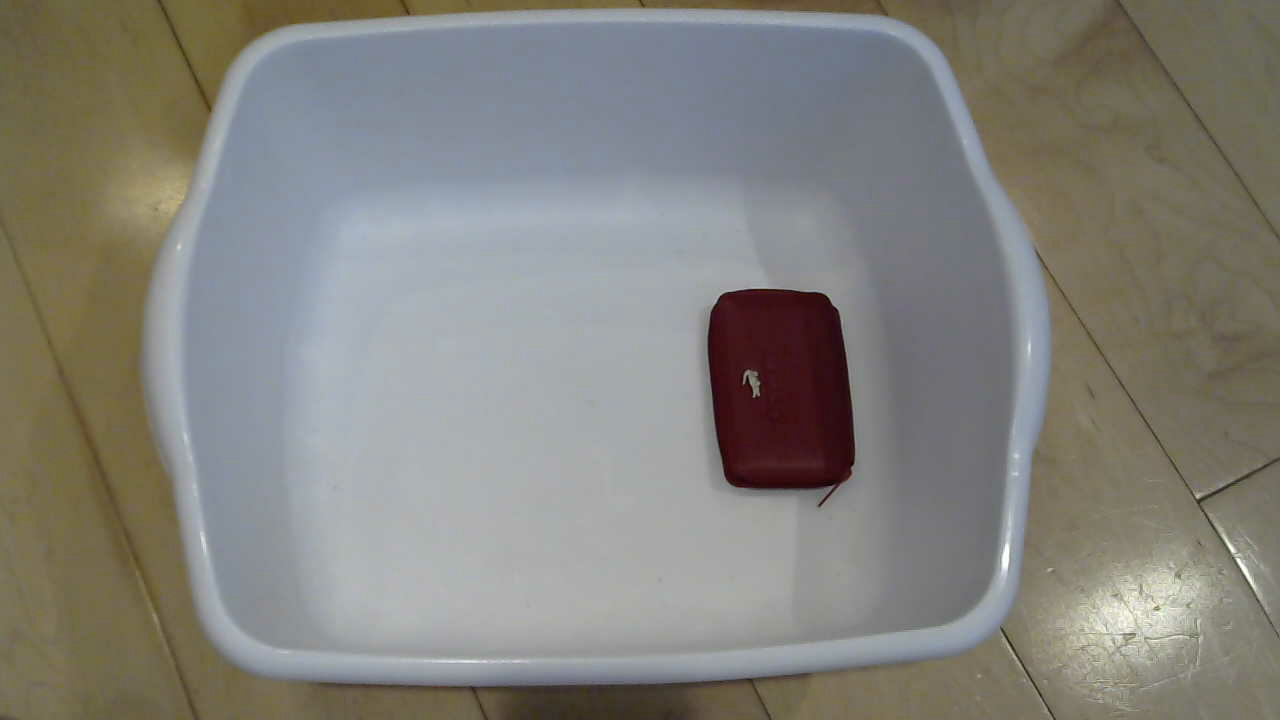wallet: (689, 287, 877, 500)
